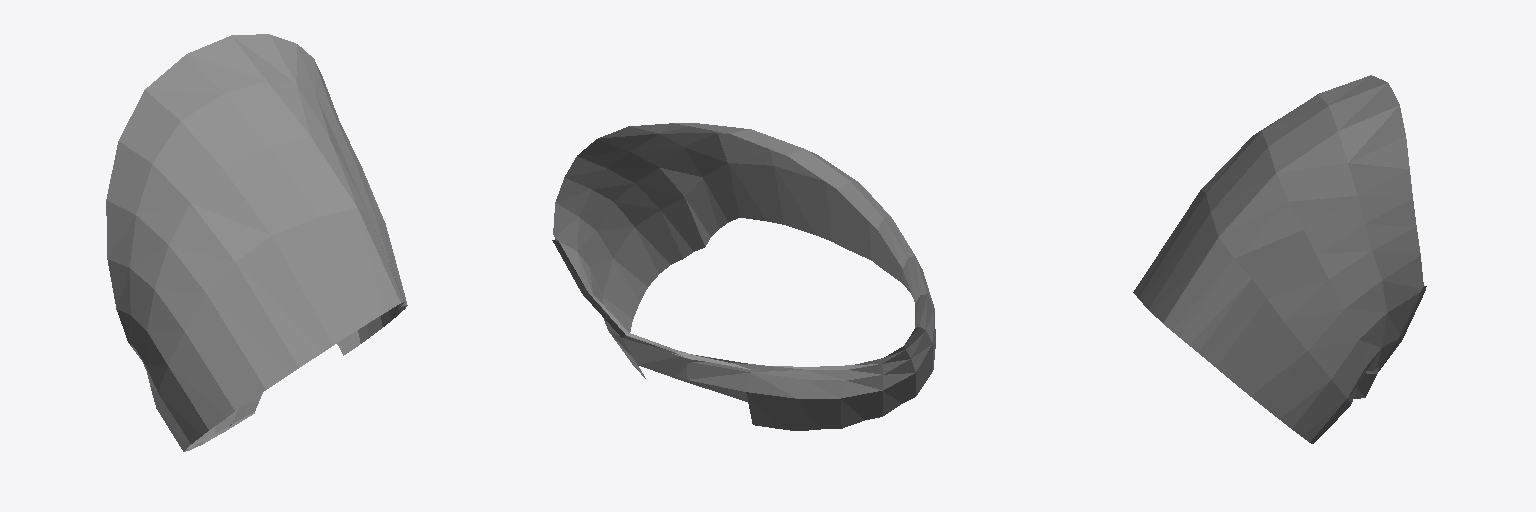
The model's file is neck_articulation.obj.
3 views of the same model, side by side, from view 1: azimuth 30°, elevation 25°; view 2: azimuth 150°, elevation 25°; view 3: azimuth 270°, elevation 25° (orthographic).
Visible parts, largest first — view 1: Cube.002_Cube.001; view 2: Cube.002_Cube.001; view 3: Cube.002_Cube.001.
Part boxes in pixels (x1,y1,x2,y2): Cube.002_Cube.001: (106,34,407,451); Cube.002_Cube.001: (552,123,935,430); Cube.002_Cube.001: (1133,75,1426,443).
Bounding box in the file's own units: 1.17 × 1.32 × 1.04.